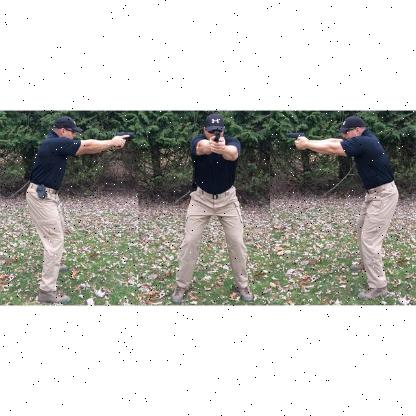gun: (113, 131, 133, 149), (284, 132, 304, 150), (210, 130, 220, 152)
